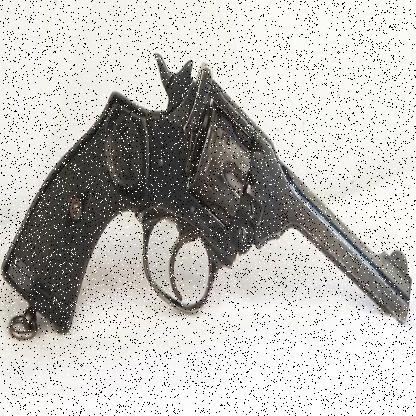pistol: (2, 50, 412, 325)
